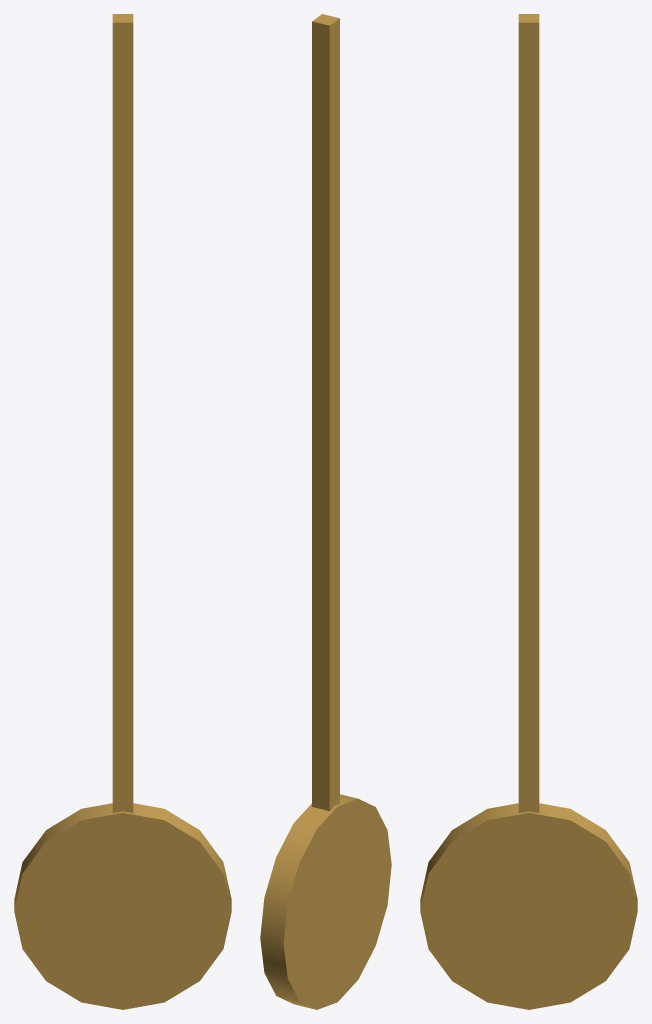
The model's file is meta-pendulum.glb.
The picture shows the model from 3 angles, left to right: view 1: azimuth 90°, elevation 25°; view 2: azimuth 150°, elevation 25°; view 3: azimuth 270°, elevation 25°; orthographic projection.
Parts seen in each view (by area): view 1: 01_#c8a050_r110, 00_#c8a050_r320; view 2: 00_#c8a050_r320, 01_#c8a050_r110; view 3: 01_#c8a050_r110, 00_#c8a050_r320.
Boxes of the visible parts, x1,y1,x2,y2 form: 01_#c8a050_r110: (14,803,231,1009); 00_#c8a050_r320: (112,14,133,812); 00_#c8a050_r320: (312,14,339,810); 01_#c8a050_r110: (260,794,391,1009); 01_#c8a050_r110: (420,803,637,1009); 00_#c8a050_r320: (518,14,539,812).
Size of the model in its own units: 0.02 by 0.8 by 0.16.
